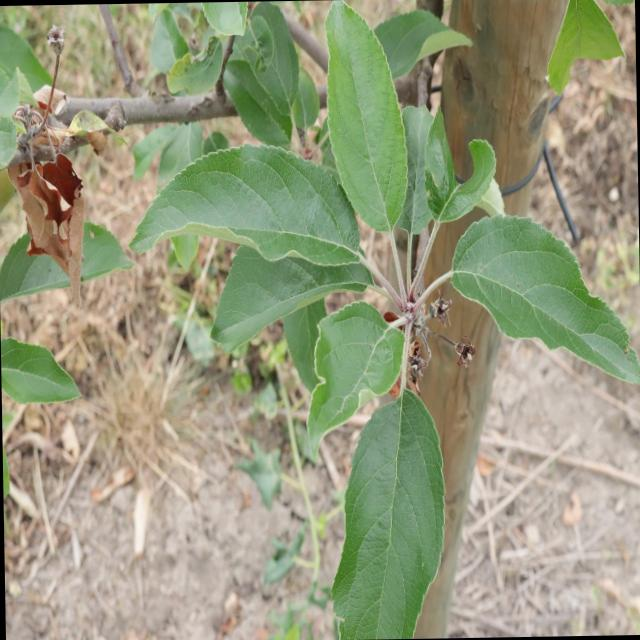-FireBlight-: (4, 81, 91, 301)
